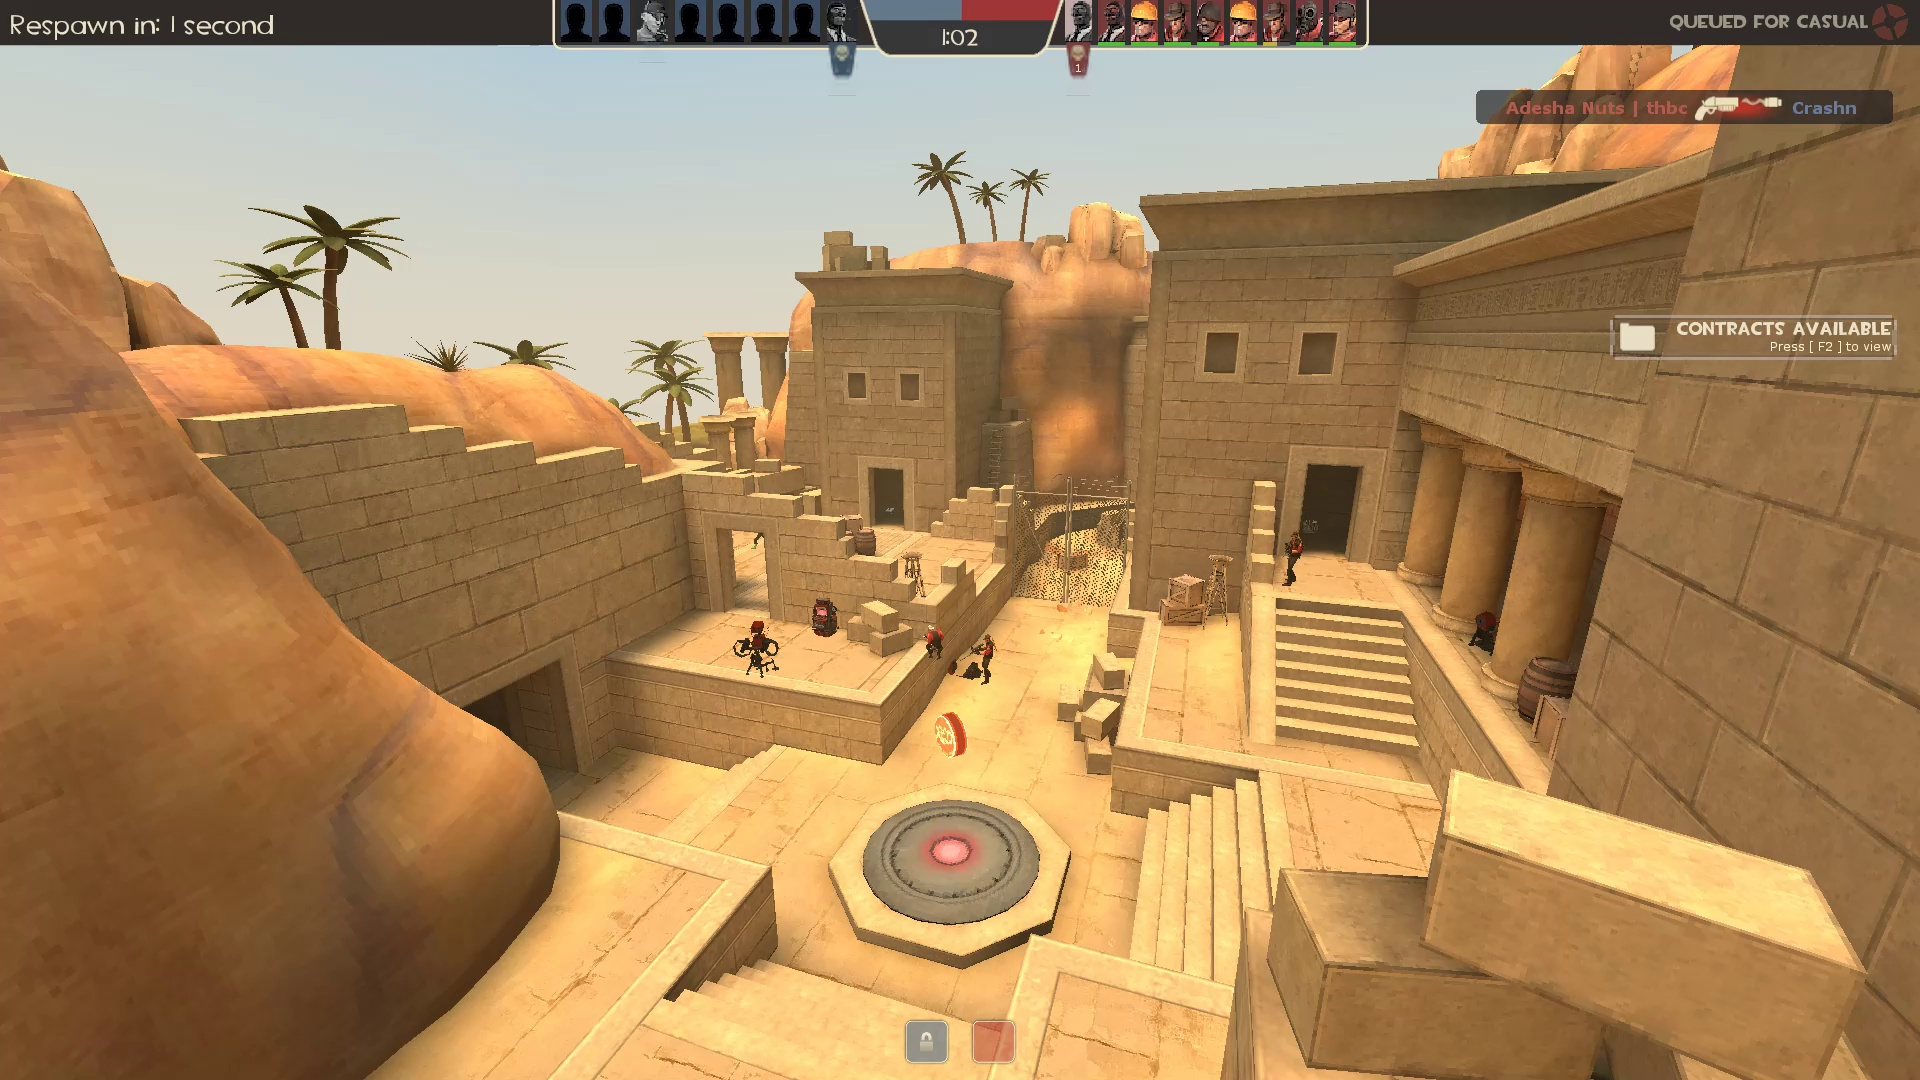red_dispenser: (808, 593, 843, 638)
red_engineer: (920, 622, 945, 661)
red_sentry_3: (729, 618, 786, 684)
red_sentry_building: (1462, 607, 1505, 651)
red_sniper: (1274, 526, 1305, 589), (965, 630, 1000, 686)
